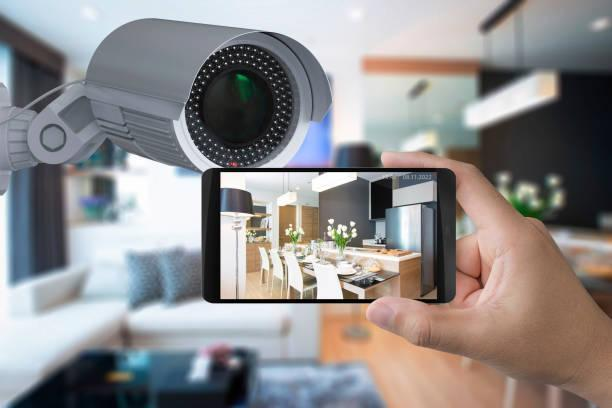camera: (76, 12, 339, 199)
